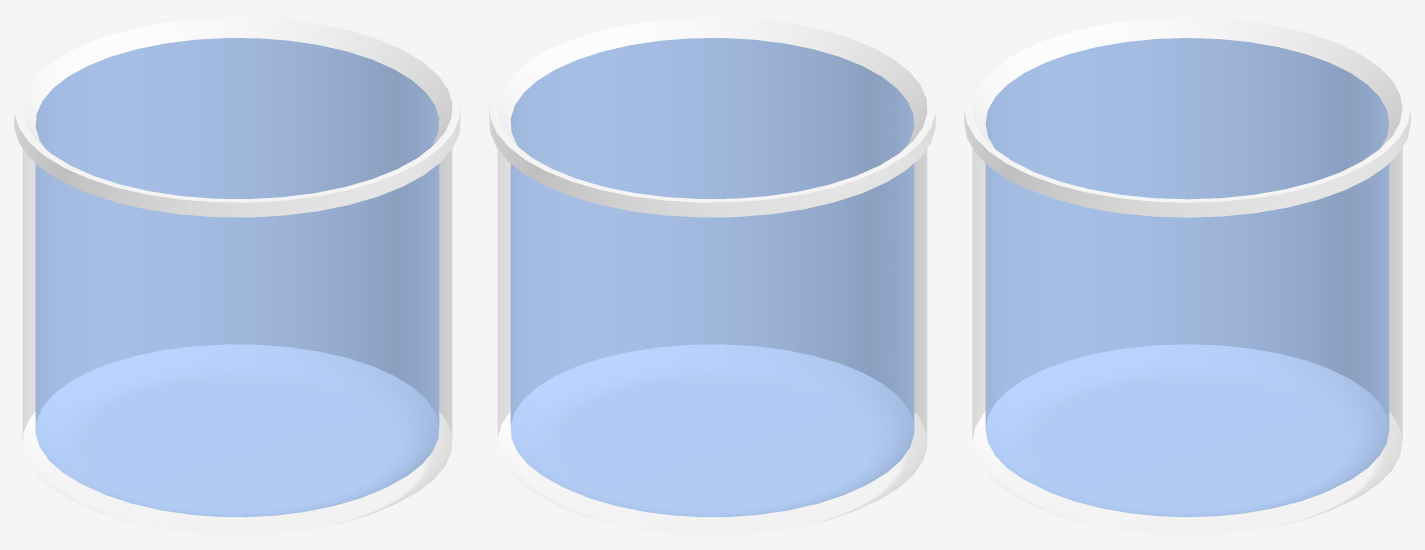
Rendered from Jar.glb.
3 views of the same model, side by side, from view 1: azimuth 30°, elevation 25°; view 2: azimuth 150°, elevation 25°; view 3: azimuth 270°, elevation 25° (orthographic).
Visible parts, largest first — view 1: Jar; view 2: Jar; view 3: Jar.
Boxes of the visible parts, x1,y1,x2,y2 form: Jar: (14, 14, 460, 535); Jar: (489, 14, 935, 535); Jar: (964, 14, 1410, 535).
Size of the model in its own units: 32.51 by 28 by 32.51.
Materials: 1 (1 with a texture image).
